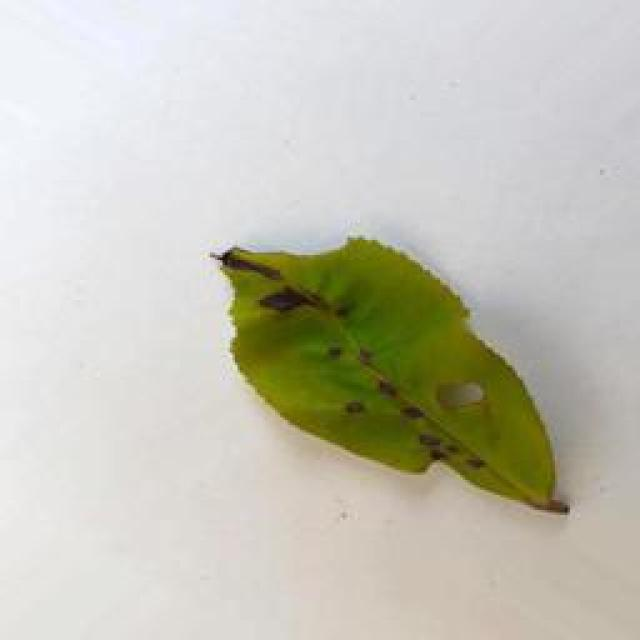Helopeltis: (203, 218, 579, 527)
